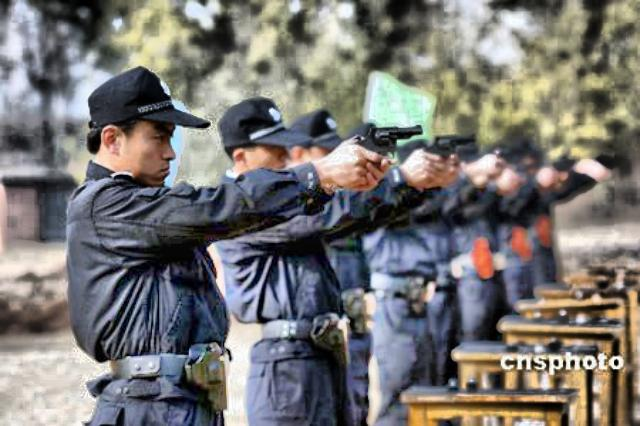pistol: (353, 123, 419, 169), (421, 132, 473, 160)
